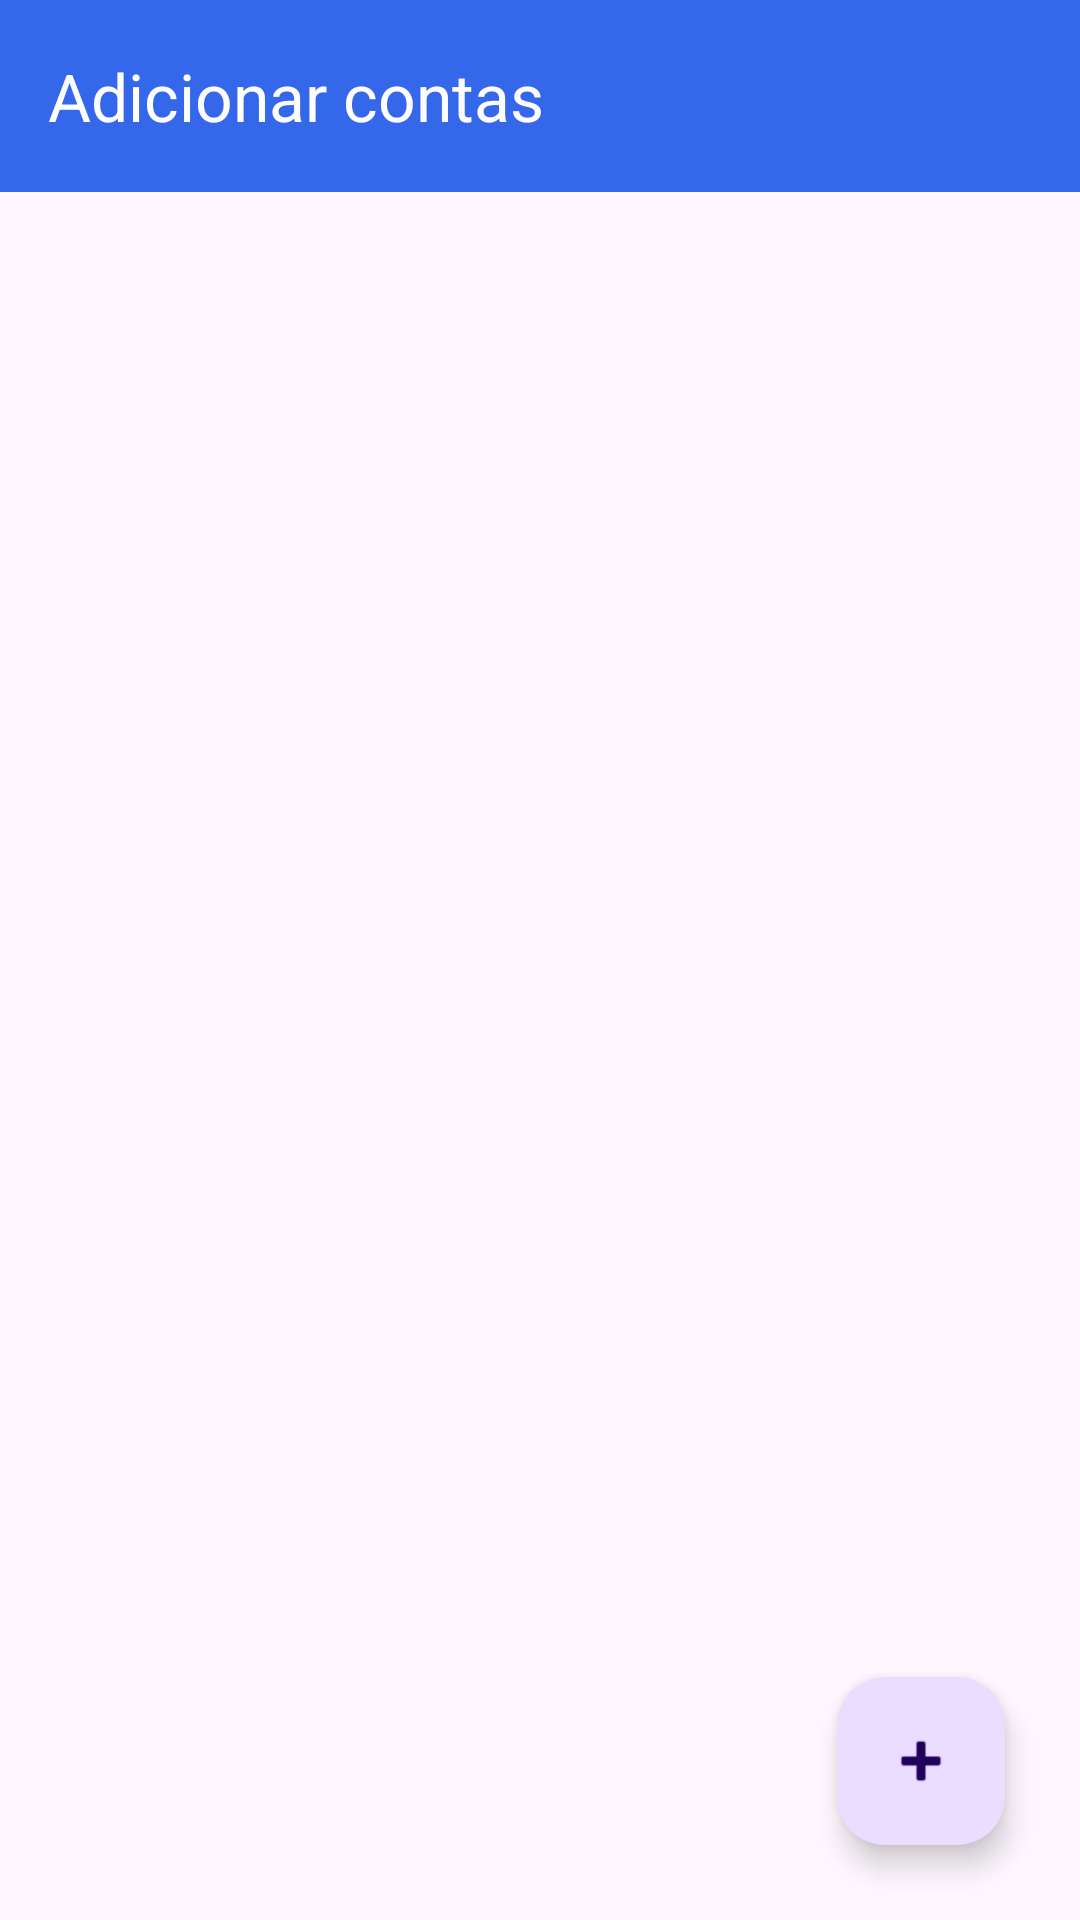

Locate icon controls on the screen. Image size 1080w x 1920h, boxes as (left=x1, top=y1, right=x2, bottom=y2).
Clique para adicionar a lista: (left=837, top=1677, right=1005, bottom=1845)
